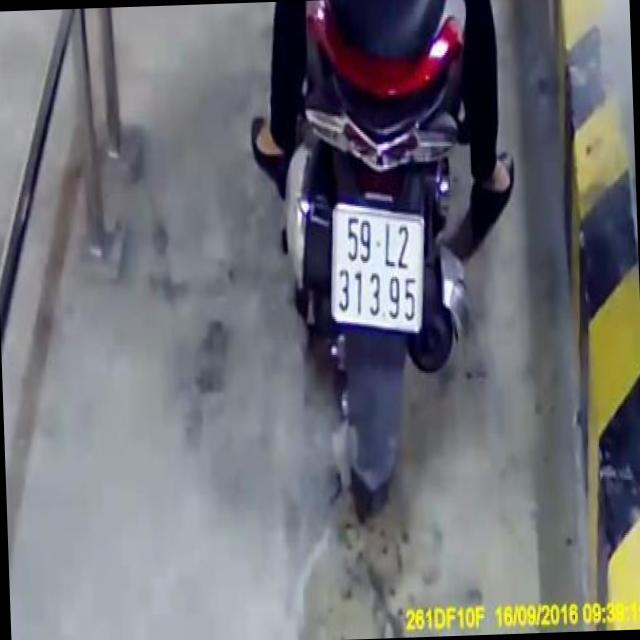LP: (324, 196, 430, 334)
